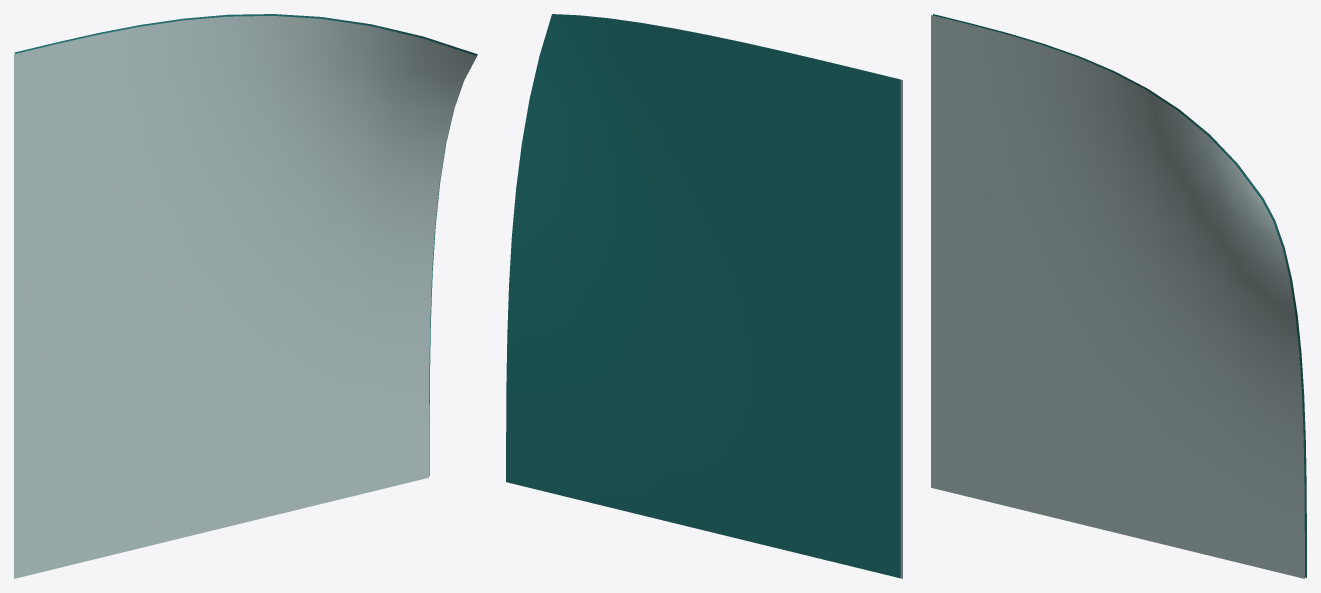
Rendered from SM_Poster.FBX.
3 views of the same model, side by side, from view 1: azimuth 30°, elevation 25°; view 2: azimuth 150°, elevation 25°; view 3: azimuth 330°, elevation 25° (orthographic). The views are drawn at different scales.
Visible parts, largest first — view 1: SM_Poster; view 2: SM_Poster; view 3: SM_Poster.
Boxes of the visible parts, box(x1,y1,x2,y2) form: SM_Poster: box(14, 14, 477, 578); SM_Poster: box(506, 14, 902, 578); SM_Poster: box(931, 14, 1306, 578).
Bounding box in the file's own units: 127 × 153 × 25.99.
